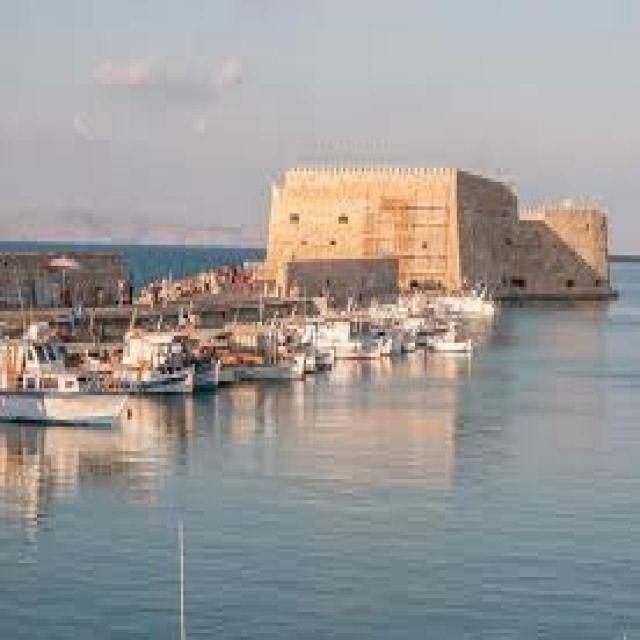Kules: (266, 164, 621, 303)
